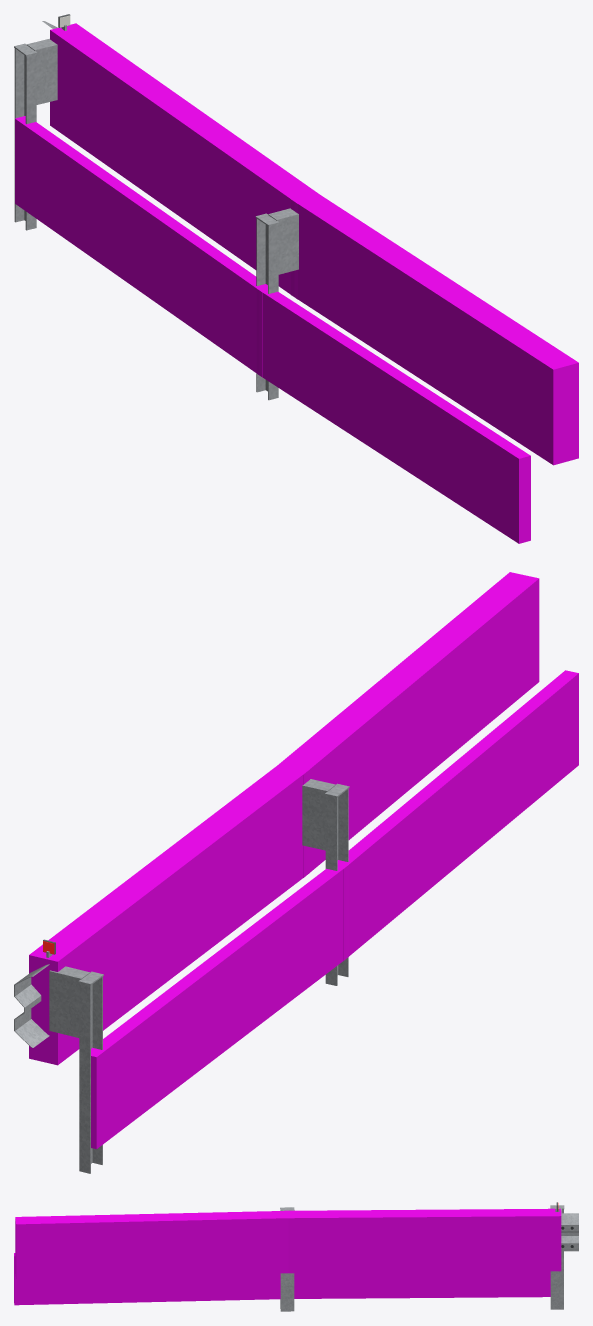
The model's file is EN_Barrier_WBeam_4m_R56.fbx.
The picture shows the model from 3 angles, top to bottom: view 1: azimuth 30°, elevation 25°; view 2: azimuth 150°, elevation 25°; view 3: azimuth 270°, elevation 25°; orthographic projection. The views are drawn at different scales.
Visible parts, largest first — view 1: COL_Barrier, EN_Barrier_WBeam_4m_R56_Mesh; view 2: COL_Barrier, EN_Barrier_WBeam_4m_R56_Mesh; view 3: COL_Barrier, EN_Barrier_WBeam_4m_R56_Mesh.
Boxes of the visible parts, bbox=[...] form: COL_Barrier: bbox=[15, 23, 578, 543]; EN_Barrier_WBeam_4m_R56_Mesh: bbox=[14, 14, 298, 400]; COL_Barrier: bbox=[29, 572, 578, 1149]; EN_Barrier_WBeam_4m_R56_Mesh: bbox=[14, 779, 349, 1173]; COL_Barrier: bbox=[14, 1208, 561, 1305]; EN_Barrier_WBeam_4m_R56_Mesh: bbox=[280, 1202, 578, 1311].
Bounding box in the file's own units: 0.4492 × 0.94 × 4.18.
